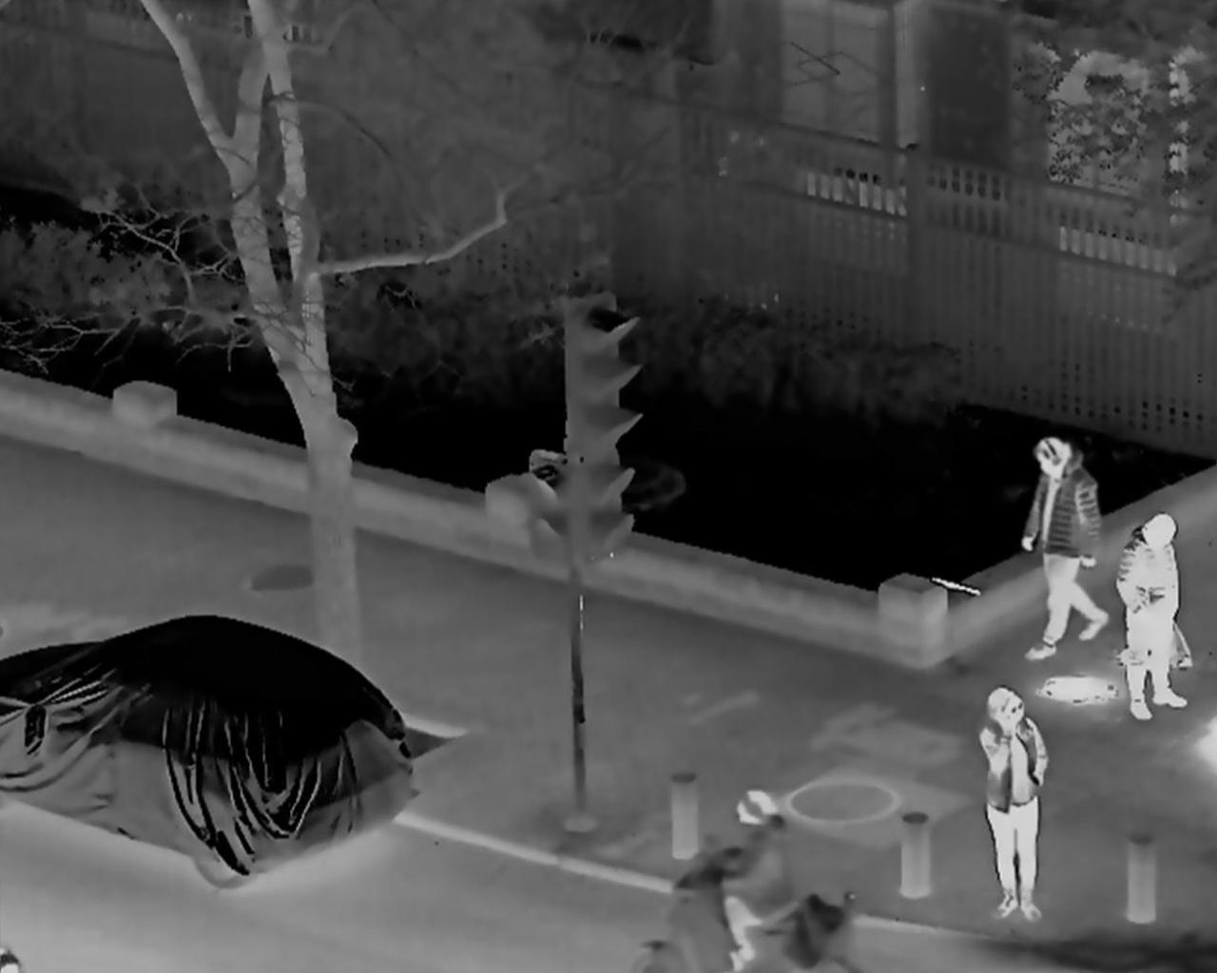person: (1020, 439, 1107, 657), (976, 686, 1048, 926), (1119, 516, 1192, 725), (719, 786, 796, 965)
